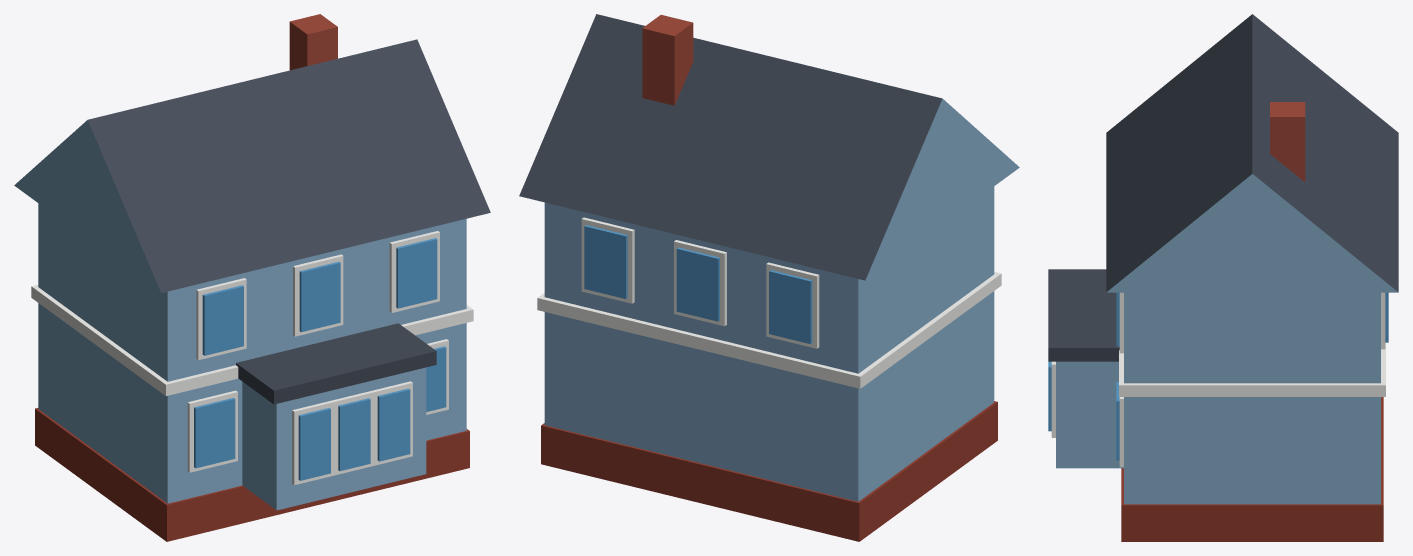
File: 80_vilnius_villa_3.obj
3 views of the same model, side by side, from view 1: azimuth 30°, elevation 25°; view 2: azimuth 150°, elevation 25°; view 3: azimuth 270°, elevation 25° (orthographic). The views are drawn at different scales.
Visible parts, largest first — view 1: 80_vilnius_villa_3; view 2: 80_vilnius_villa_3; view 3: 80_vilnius_villa_3.
Boxes of the visible parts, box(x1,y1,x2,y2) form: 80_vilnius_villa_3: box(14, 14, 490, 541); 80_vilnius_villa_3: box(519, 14, 1019, 541); 80_vilnius_villa_3: box(1048, 14, 1398, 541).
Size of the model in its own units: 1.5 by 1.74 by 1.39.
